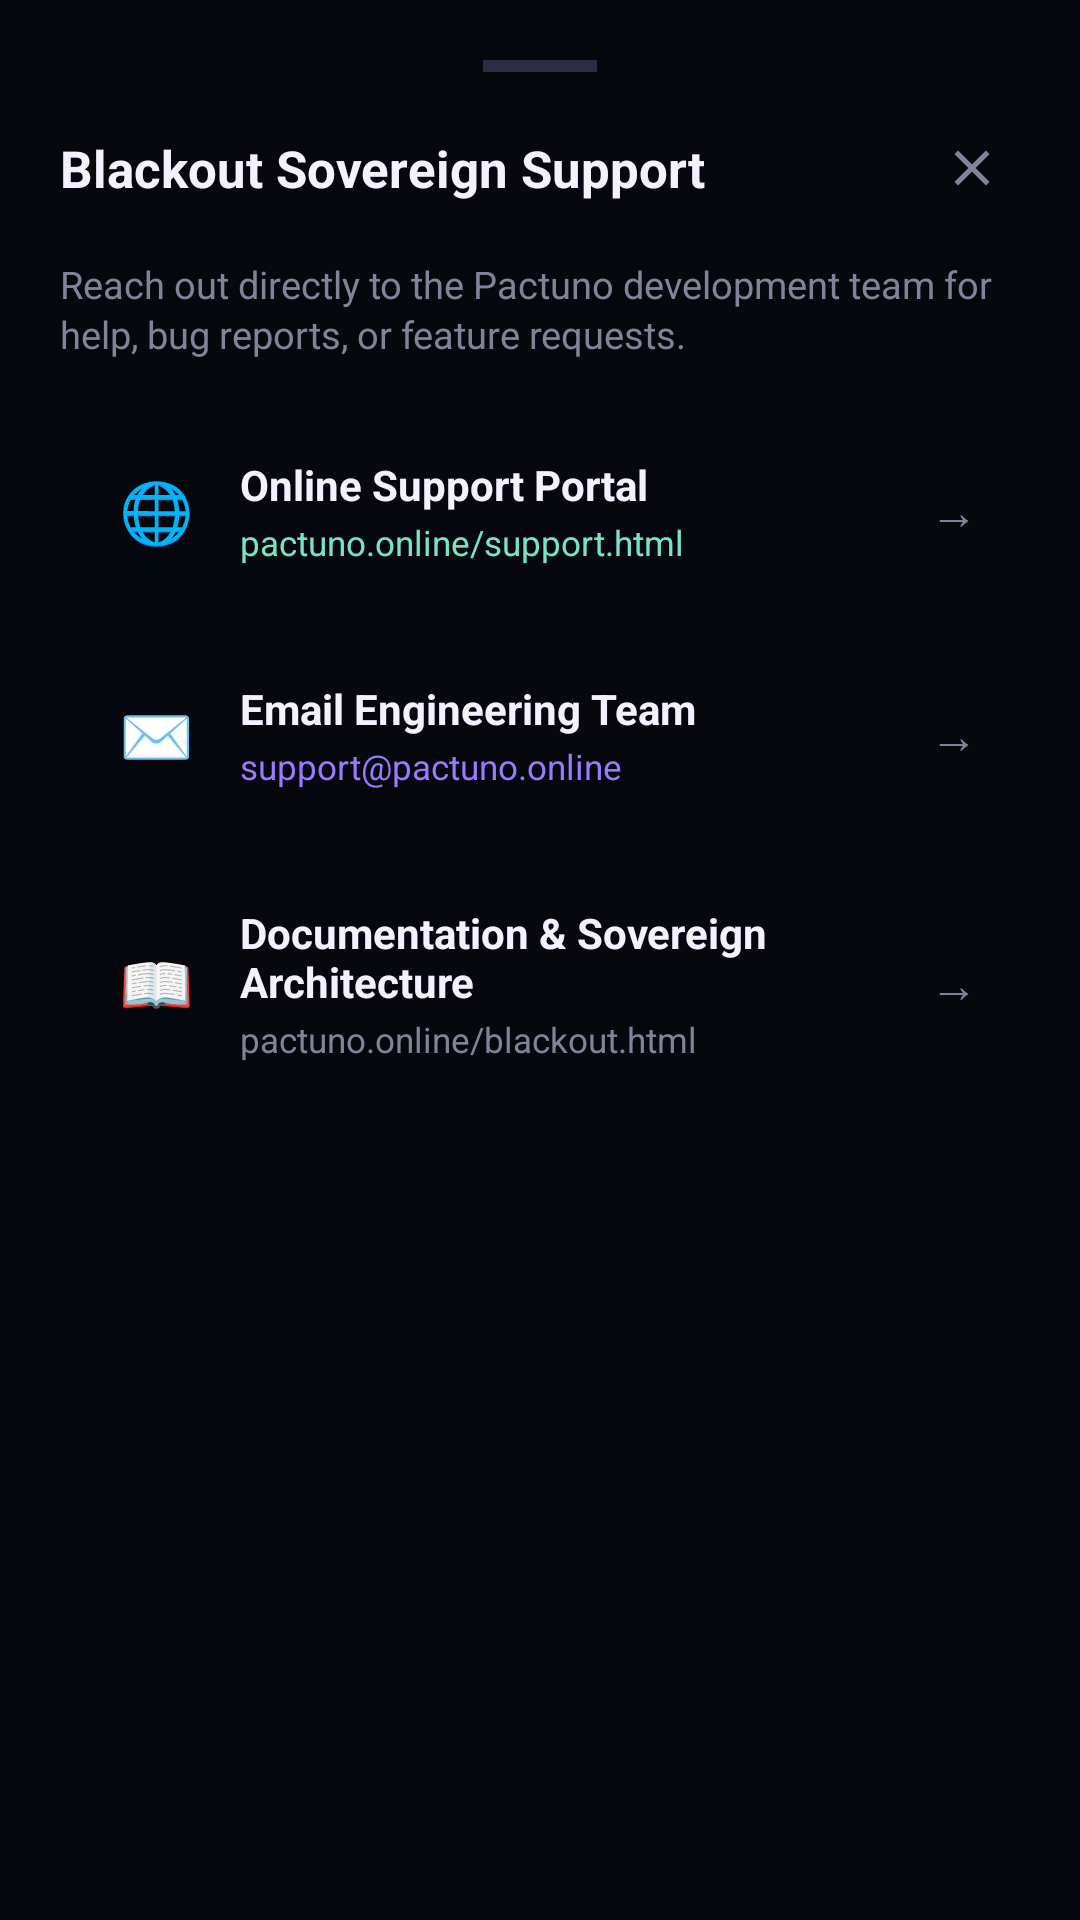

Icons on this 1080x1920 Android screen, each with the point to tap as (x=x, y=y):
Close: (x=972, y=168)
